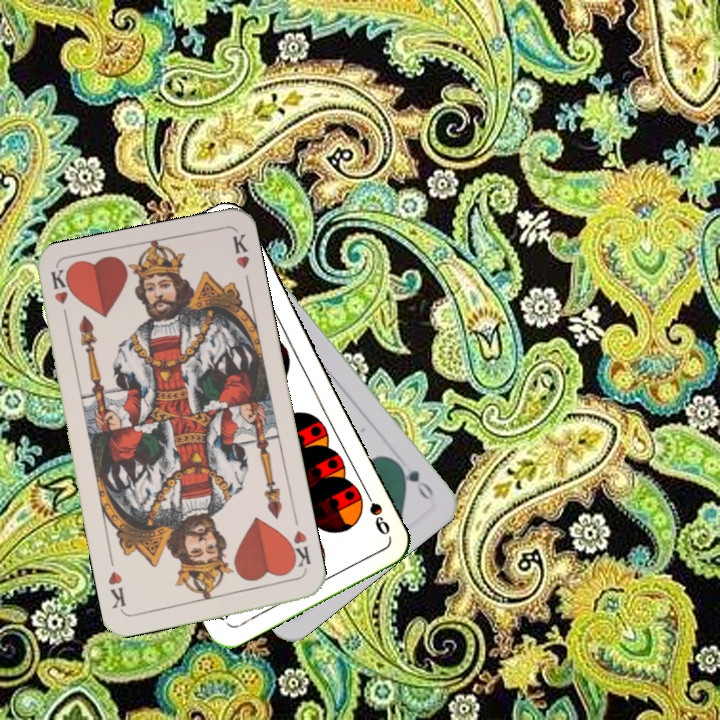GO: (390, 457, 437, 503)
HK: (46, 266, 71, 326), (283, 526, 313, 575)
S9: (359, 483, 393, 538)
